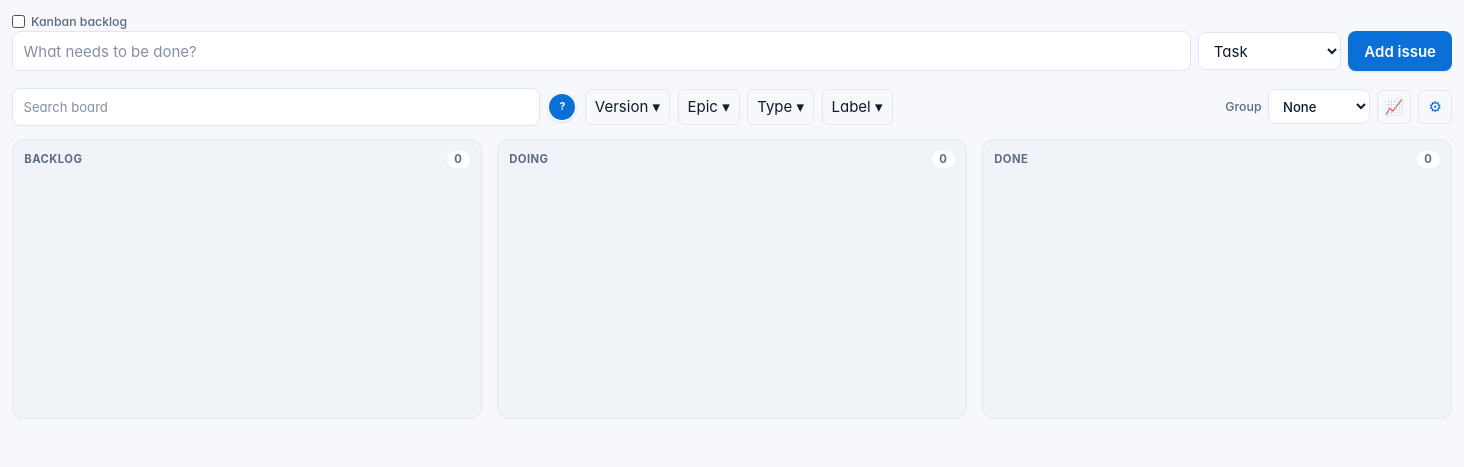
Test: Kanban backlog (S48) › explains when only admins may change the board
The width and height of the screenshot is (1464, 467).
Click the checkbox labelled "Kanban backlog" at (18, 22), box [12, 15, 25, 28]
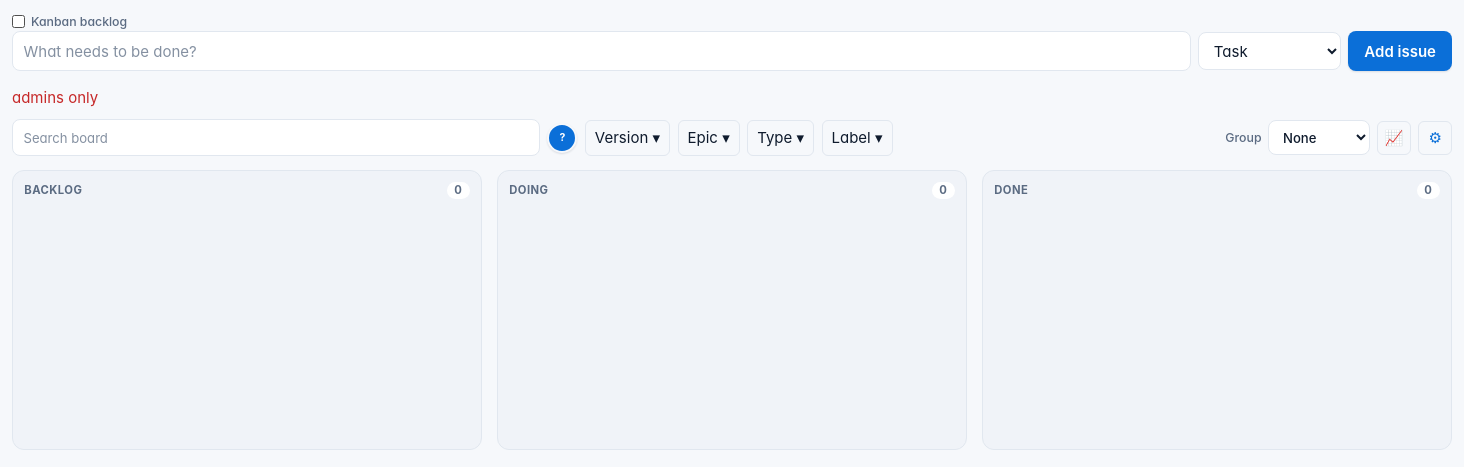
Expected: the message reads "admins only", [12, 88, 98, 107]
